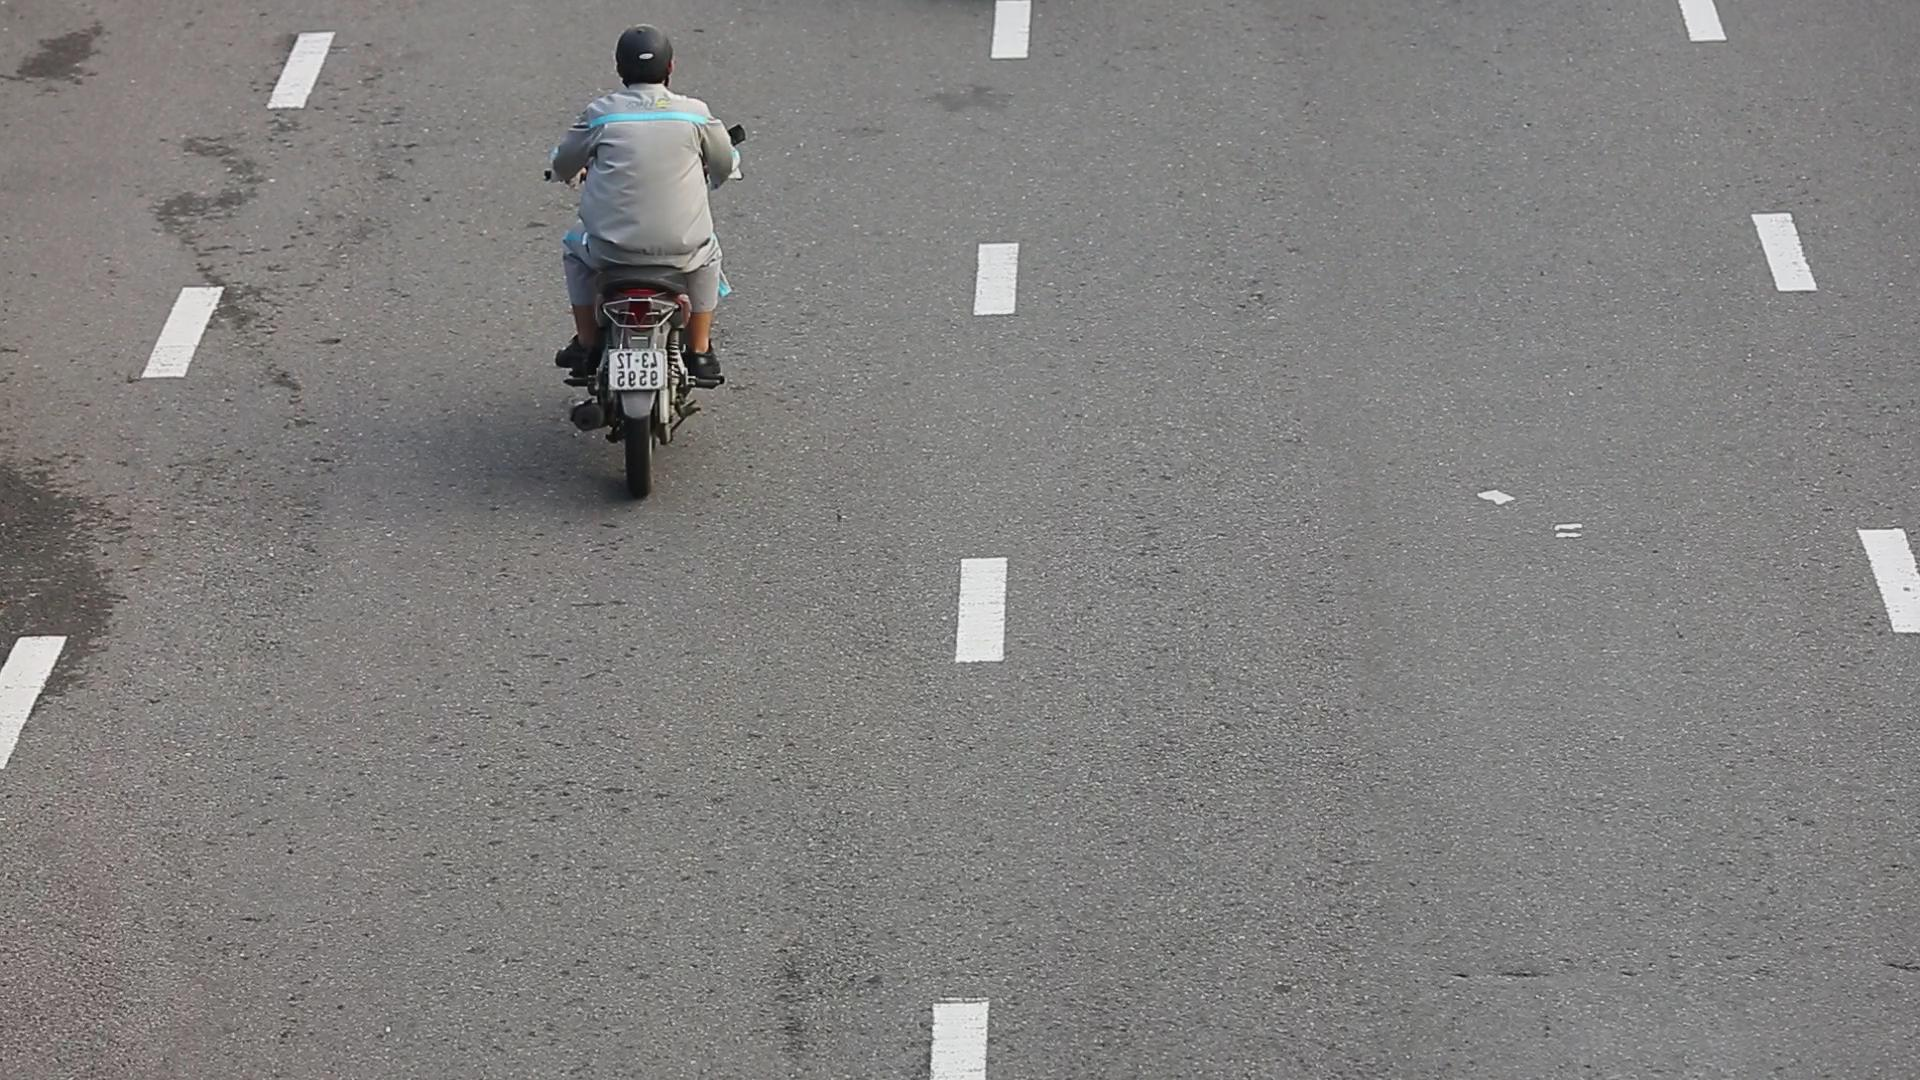motobike: (527, 12, 754, 509)
